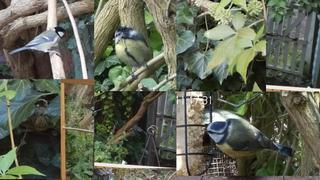blue tit: (203, 118, 292, 158), (112, 27, 152, 80)
great tit: (8, 27, 68, 56)
